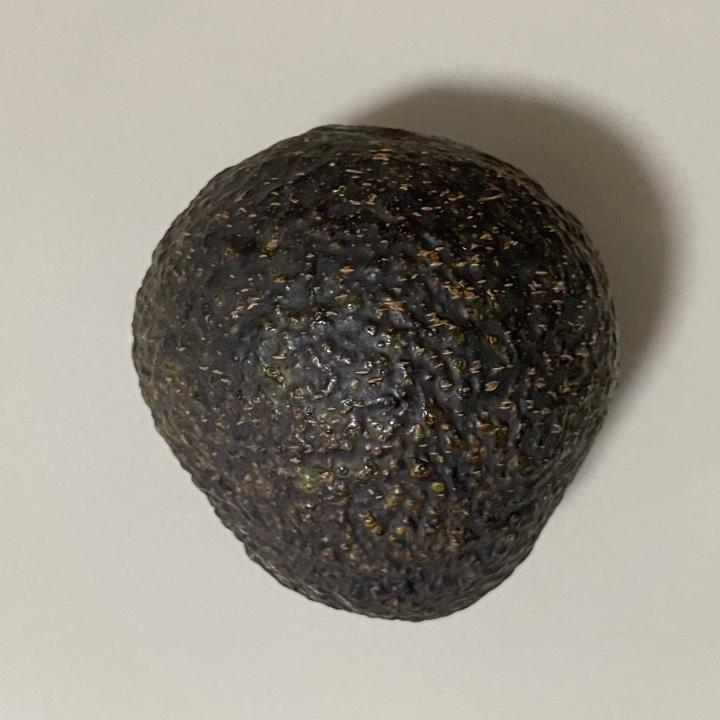Level2: (123, 118, 624, 629)
